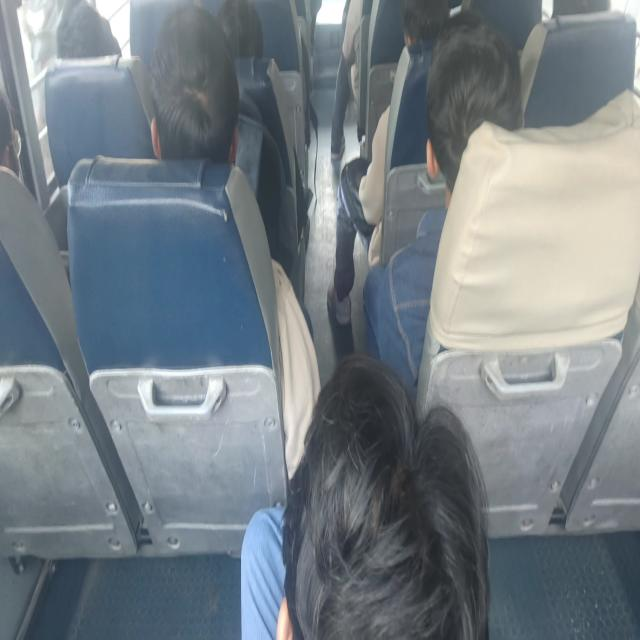person: (272, 372, 490, 640), (145, 8, 239, 170), (427, 33, 524, 183), (51, 0, 122, 66), (393, 0, 465, 49), (212, 2, 266, 62), (0, 87, 31, 177)
